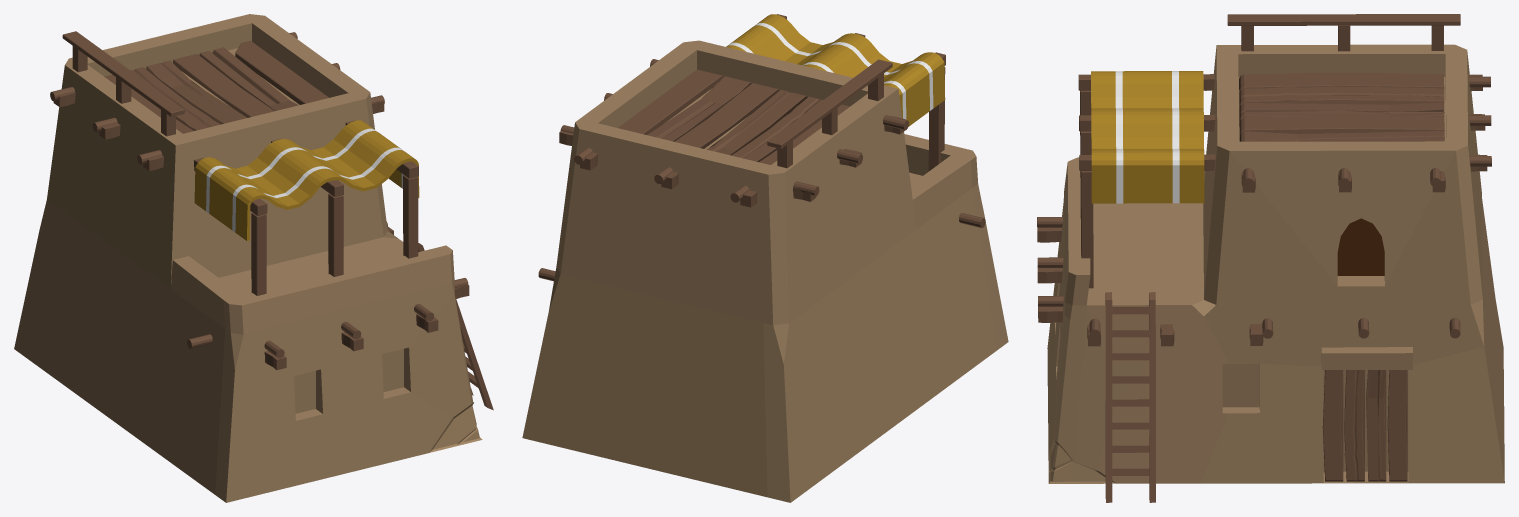
Rendered from Bangunan1kuning.fbx.
3 renders of one model, left to right at view 1: azimuth 30°, elevation 25°; view 2: azimuth 150°, elevation 25°; view 3: azimuth 270°, elevation 25°, orthographic. The views are drawn at different scales.
Visible parts, largest first — view 1: Plane.002; view 2: Plane.002; view 3: Plane.002.
Part boxes in pixels (x1=…): Plane.002: x1=14, y1=14, x2=493, y2=502; Plane.002: x1=522, y1=14, x2=1008, y2=502; Plane.002: x1=1037, y1=14, x2=1504, y2=502.
Bounding box in the file's own units: 300 × 307 × 373.
